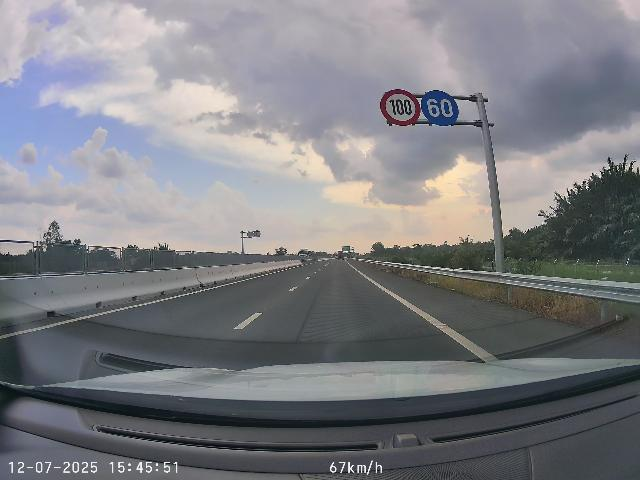127-toc-do-toi-da-100: (380, 89, 421, 126)
306-toc-do-toi-thieu-60: (421, 90, 459, 127)
